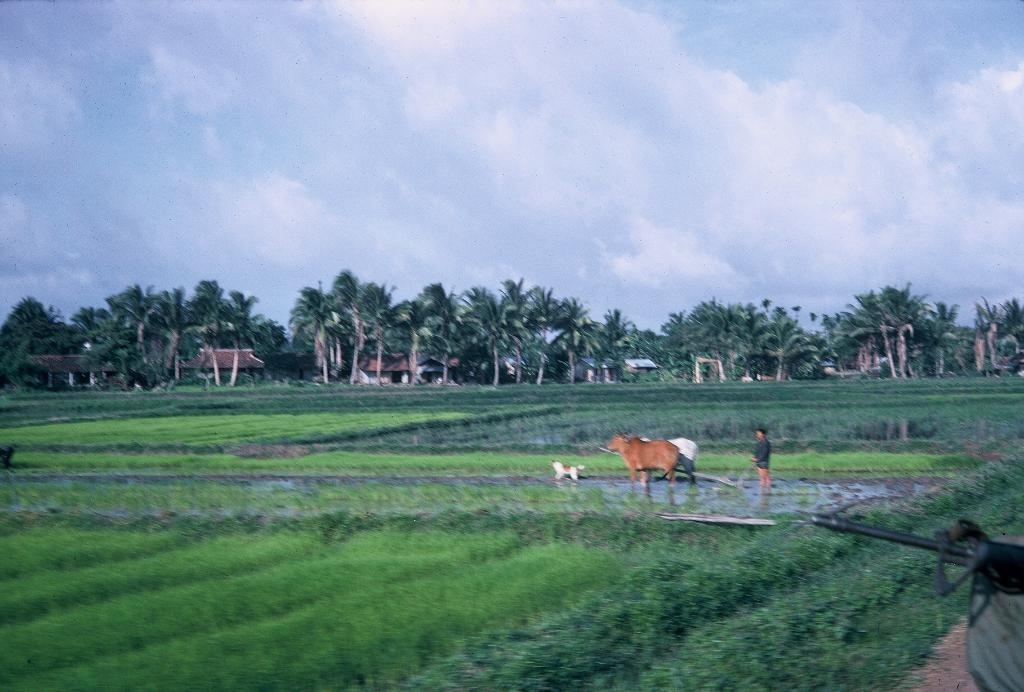Rifle: (817, 513, 1023, 589)
